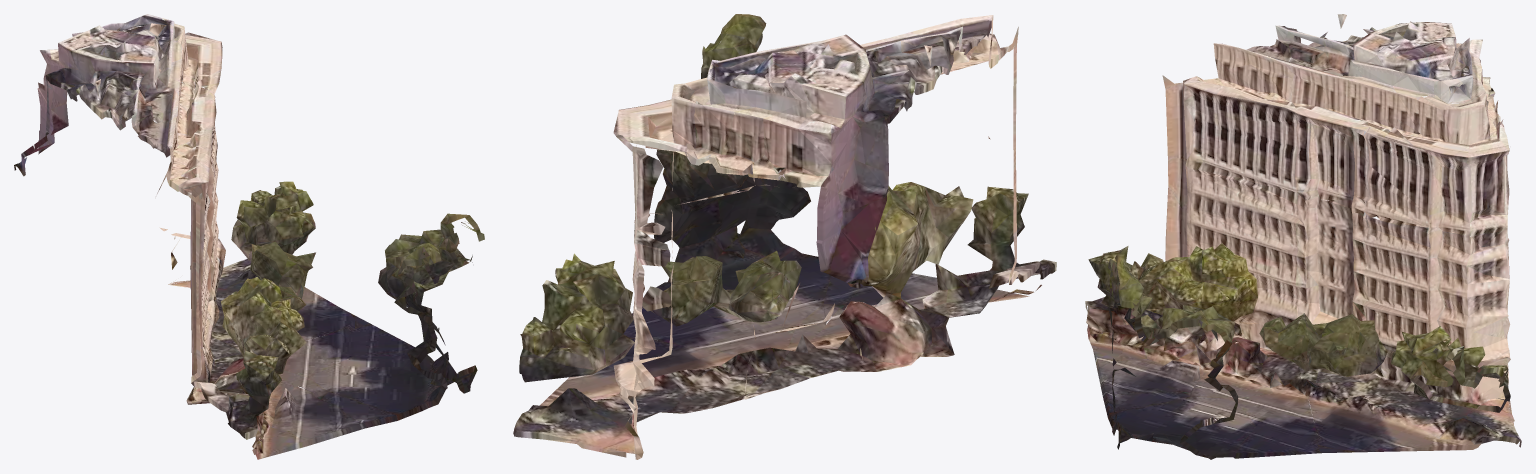
The picture shows the model from 3 angles, left to right: view 1: azimuth 30°, elevation 25°; view 2: azimuth 150°, elevation 25°; view 3: azimuth 270°, elevation 25°; orthographic projection. The views are drawn at different scales.
Parts seen in each view (by area): view 1: Mesh_0; view 2: Mesh_0; view 3: Mesh_0.
Part boxes in pixels (left/top/right/bottom): Mesh_0: left=14, top=14, right=484, bottom=459; Mesh_0: left=513, top=14, right=1056, bottom=459; Mesh_0: left=1085, top=14, right=1521, bottom=459.
Bounding box in the file's own units: 33.28 × 33.85 × 41.5.
1 material, 1 textured.
